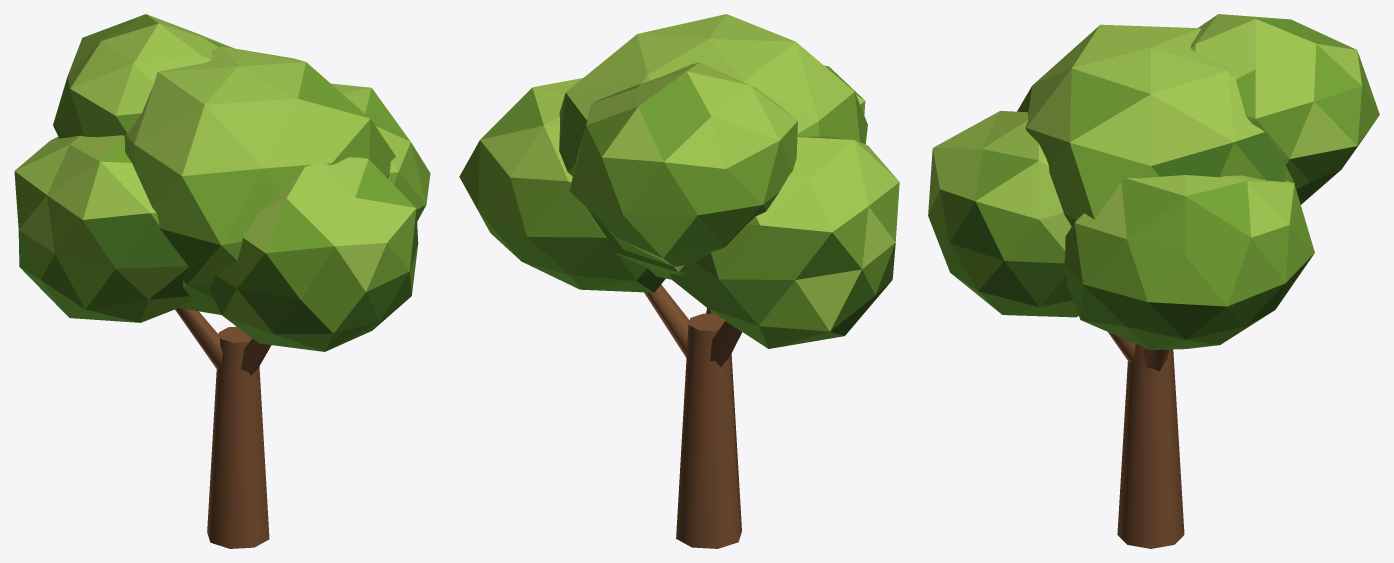
The model's file is tree_leafy_s.glb.
3 renders of one model, left to right at view 1: azimuth 30°, elevation 25°; view 2: azimuth 150°, elevation 25°; view 3: azimuth 270°, elevation 25°, orthographic. The views are drawn at different scales.
Visible parts, largest first — view 1: tree.leafy.s; view 2: tree.leafy.s; view 3: tree.leafy.s.
Part boxes in pixels (x1,y1,x2,y2): tree.leafy.s: (14, 14, 430, 548); tree.leafy.s: (459, 14, 899, 548); tree.leafy.s: (928, 14, 1379, 548).
Bounding box in the file's own units: 4.06 × 4.91 × 4.01.
